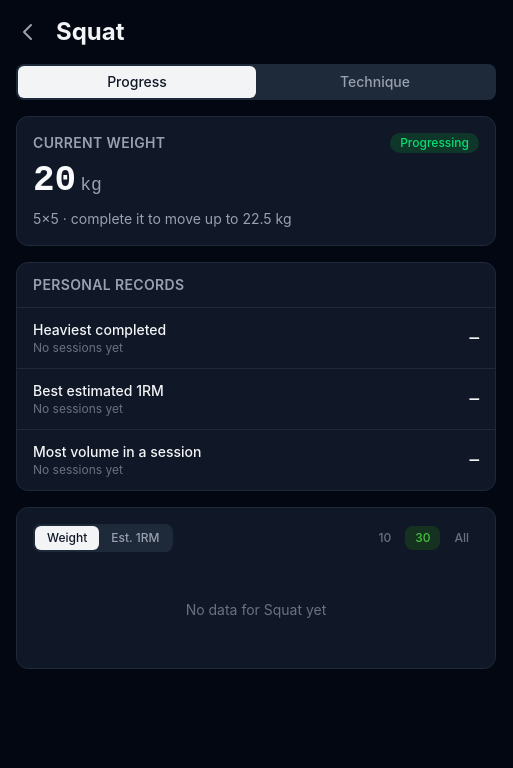
Test: LiftDetail tabs › shows the animation and cues on the Technique tab
Step 1. Click the tab "Technique" → point(375, 82), box [256,66,494,98]
(page scrolled)
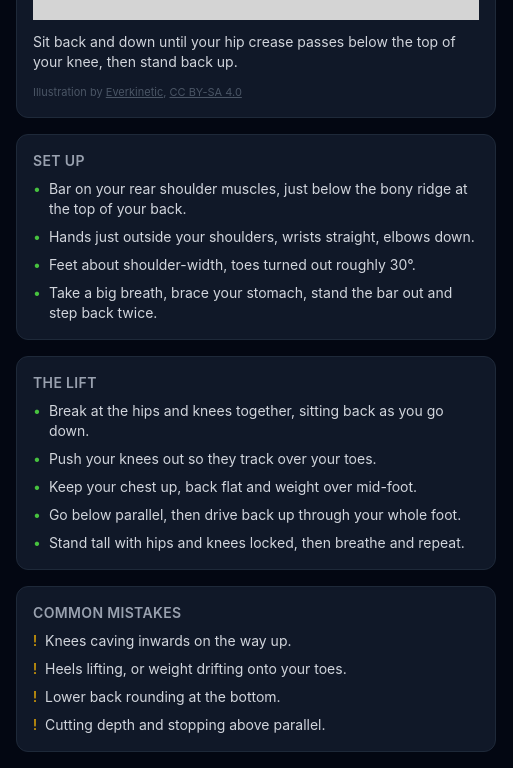
Result: the text "Sit back and down until your hip crease passes below the top of your knee, then stand back up." is shown at [33,33,456,70]
Result: the text "Bar on your rear shoulder muscles, just below the bony ridge at the top of your back." is shown at [49,180,468,216]
Result: the text "Knees caving inwards on the way up." is shown at [45,630,292,650]
